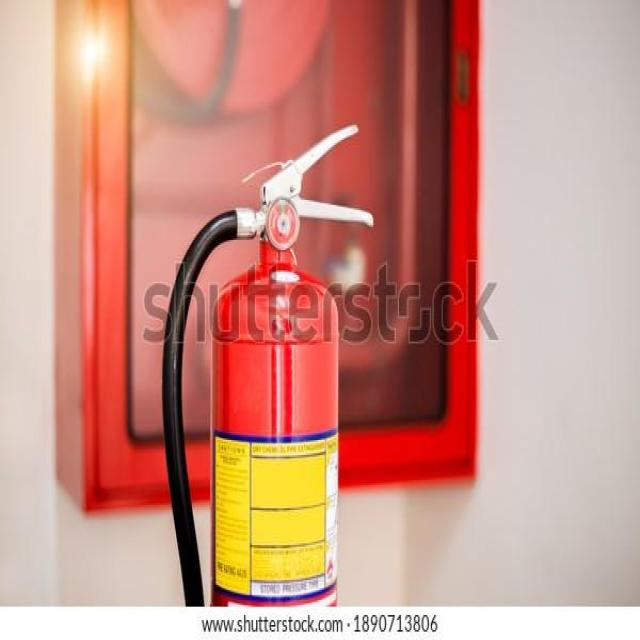fire_extinguisher: (159, 119, 375, 608)
